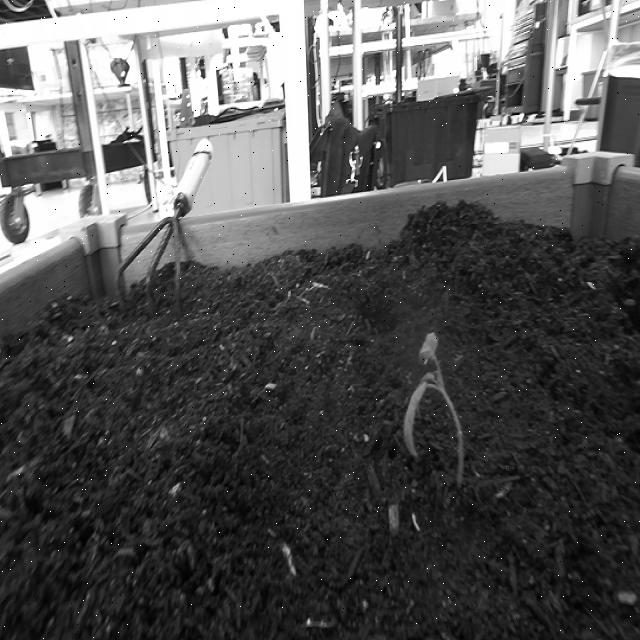Healthy: (393, 314, 478, 521)
